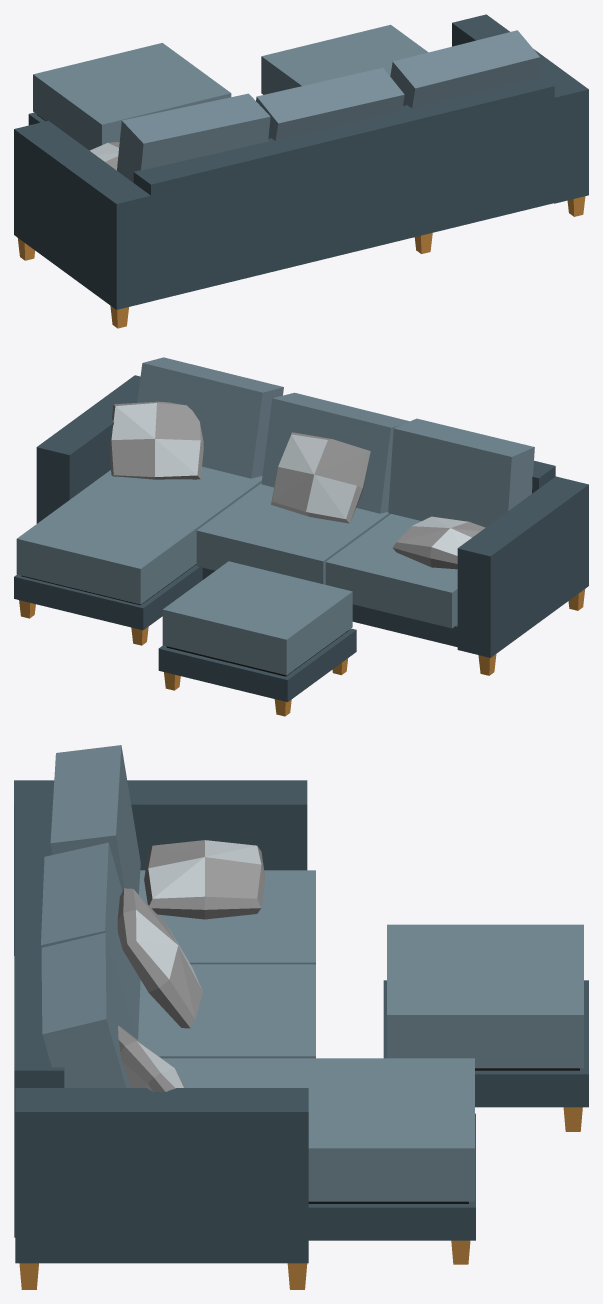
The model's file is couch.fbx.
3 views of the same model, one above another, from view 1: azimuth 30°, elevation 25°; view 2: azimuth 150°, elevation 25°; view 3: azimuth 270°, elevation 25° (orthographic). The views are drawn at different scales.
Visible parts, largest first — view 1: mesh_1177553632, mesh_555617489, group_1633872756, mesh_1082007962, mesh_384254947, mesh_1730164428, mesh_1099761130, mesh_1314930489, mesh_1922069655; view 2: group_1633872756, mesh_1099761130, mesh_555617489, mesh_1082007962, mesh_198131767, mesh_384254947, mesh_737595770, mesh_1730164428, mesh_508393492, mesh_1307475515, mesh_1314930489, mesh_1434836141 (+3 smaller); view 3: mesh_1314930489, group_1633872756, mesh_1099761130, mesh_198131767, mesh_555617489, mesh_384254947, mesh_1177553632, mesh_737595770, mesh_1082007962, mesh_1922069655, mesh_1730164428, mesh_1434836141 (+2 smaller).
Boxes of the visible parts, x1,y1,x2,y2 form: mesh_1177553632: (133,74,554,301); mesh_555617489: (14,120,150,309); group_1633872756: (28,43,231,150); mesh_1082007962: (117,93,270,182); mesh_384254947: (390,30,539,108); mesh_1730164428: (256,67,404,141); mesh_1099761130: (261,24,428,94); mesh_1314930489: (452,14,588,203); mesh_1922069655: (89,142,119,170); group_1633872756: (158,561,356,716); mesh_1099761130: (16,466,262,604); mesh_555617489: (457,476,588,657); mesh_1082007962: (388,418,534,527); mesh_198131767: (196,483,390,584); mesh_384254947: (137,357,283,478); mesh_737595770: (325,514,457,628); mesh_1730164428: (261,392,409,513); mesh_508393492: (110,401,203,479); mesh_1307475515: (271,432,370,523); mesh_1314930489: (36,375,140,523); mesh_1434836141: (14,564,202,630); mesh_1314930489: (15,1088,308,1263); group_1633872756: (383,924,588,1131); mesh_1099761130: (162,1058,474,1201); mesh_198131767: (138,964,315,1058); mesh_555617489: (14,780,307,955); mesh_384254947: (41,932,135,1087); mesh_1177553632: (14,789,64,1237); mesh_737595770: (139,870,315,964); mesh_1082007962: (50,745,140,894); mesh_1922069655: (144,840,265,919); mesh_1730164428: (41,842,140,1039); mesh_1434836141: (308,1113,475,1240).
Size of the model in its own units: 186 by 65.07 by 137.
